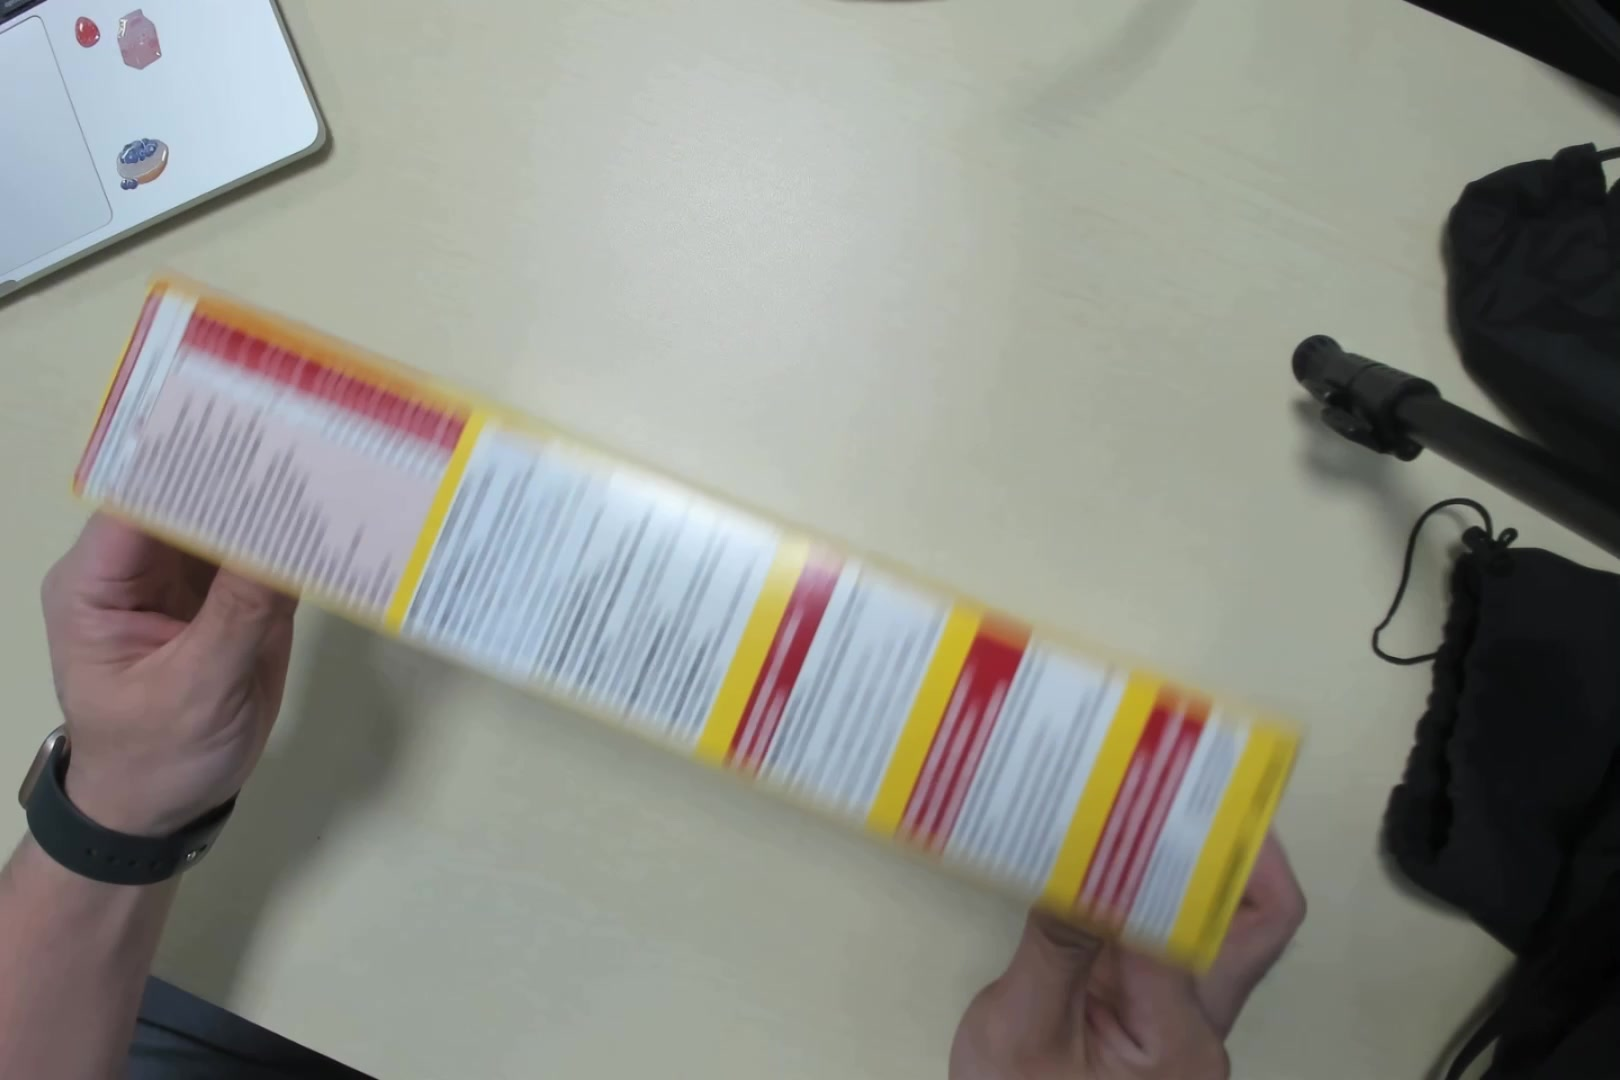BreakfastCereals_300-399g_Halal_NonHealthy: (64, 257, 1309, 974)
